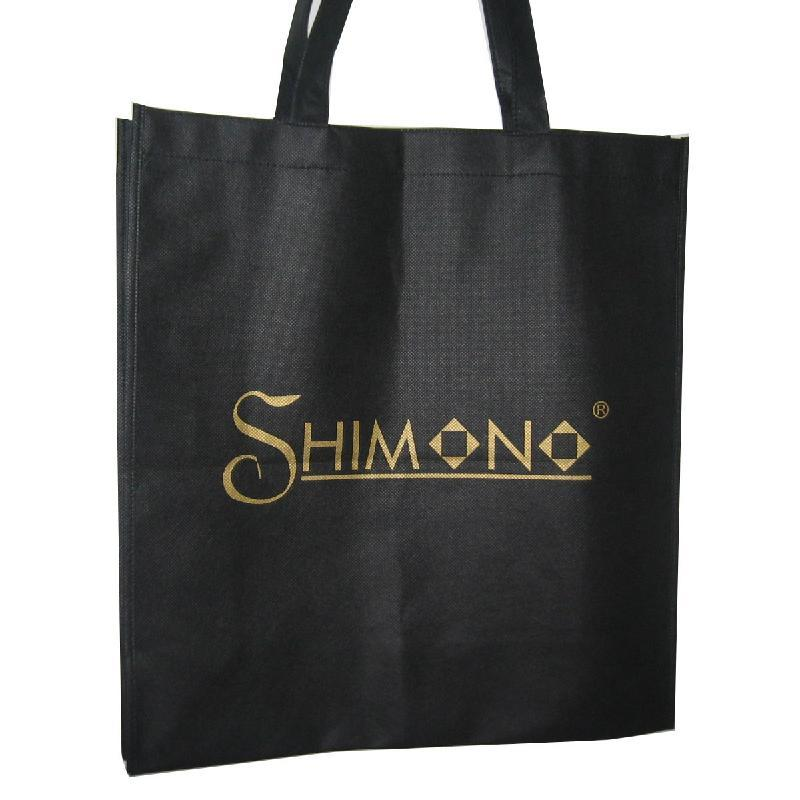flexible: (111, 4, 692, 787)
